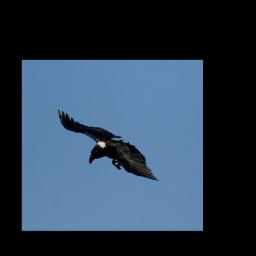Crow: (57, 108, 160, 181)
